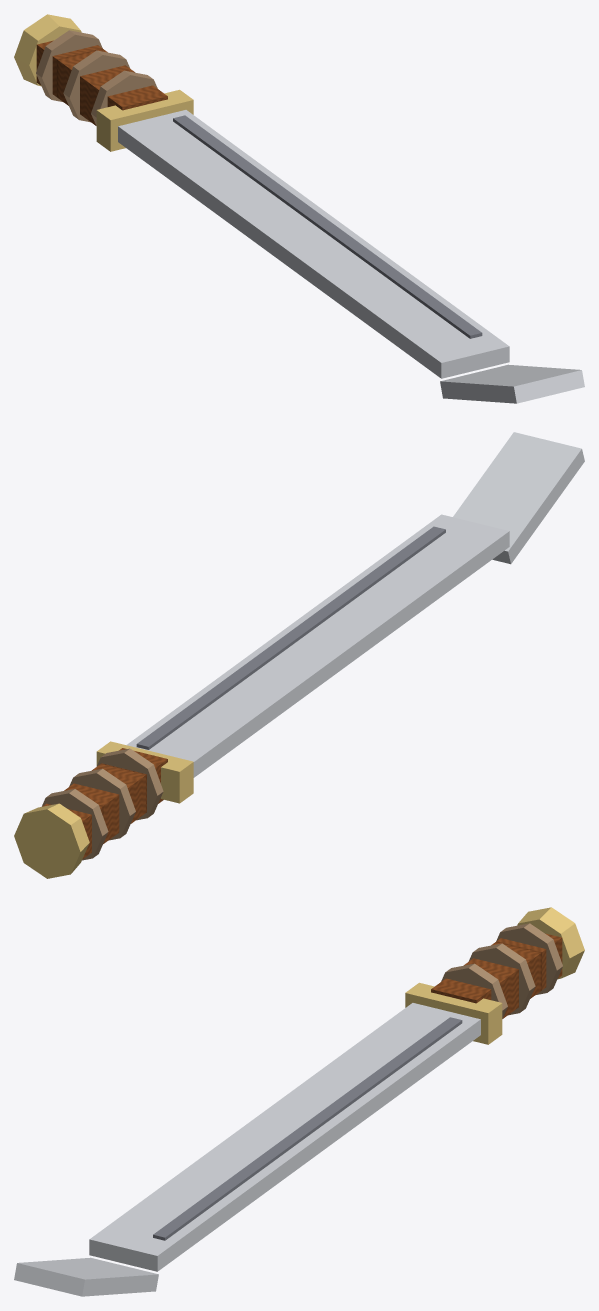
File: legendary-warriors-kit-warrior-seax-d7db56d9__39209.glb
3 renders of one model, top to bottom at view 1: azimuth 30°, elevation 25°; view 2: azimuth 150°, elevation 25°; view 3: azimuth 330°, elevation 25°, orthographic.
Parts seen in each view (by area): view 1: warrior-seax; view 2: warrior-seax; view 3: warrior-seax.
Part boxes in pixels (x1,y1,x2,y2): warrior-seax: (14,14,584,403); warrior-seax: (14,432,584,878); warrior-seax: (14,907,584,1296).
Bounding box in the file's own units: 0.055 × 0.0456 × 0.5763.
5 materials, 1 textured.
